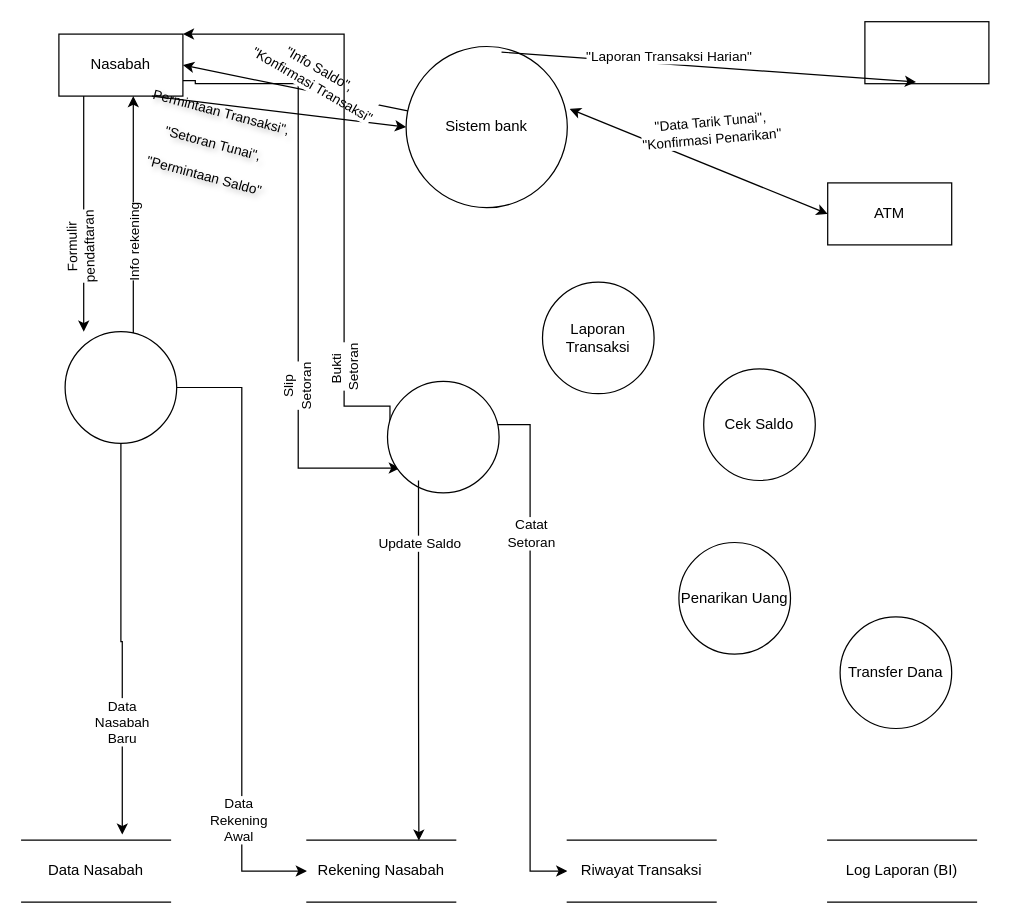
Some shapes in this 1011 by 924 pixel diagram are drawn without their labels. Each missing label, with the centre of its shape:
Bank Sentral: (x=926, y=52)
Registrasi Nasabah: (x=120, y=386)
Setoran Uang: (x=442, y=436)
